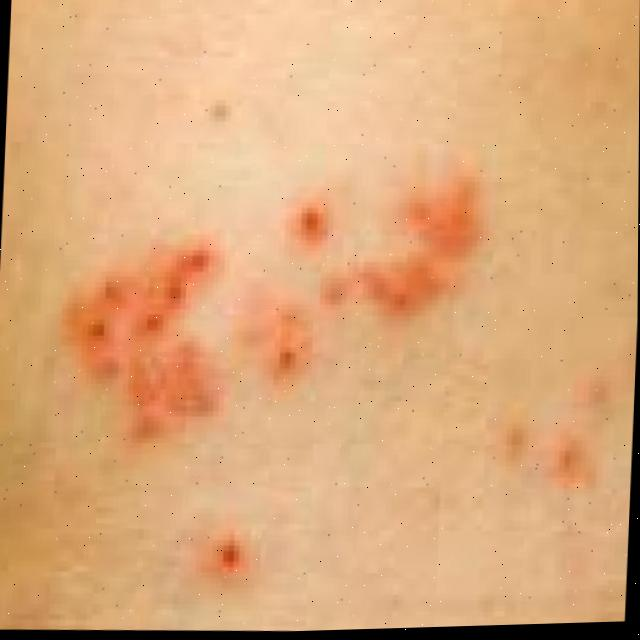Shingles: (68, 155, 481, 433)
